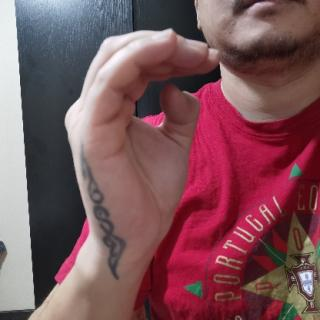JEEM: (58, 20, 230, 284)
